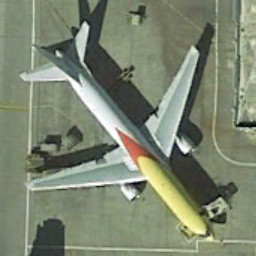Airplane: (10, 14, 221, 252)
